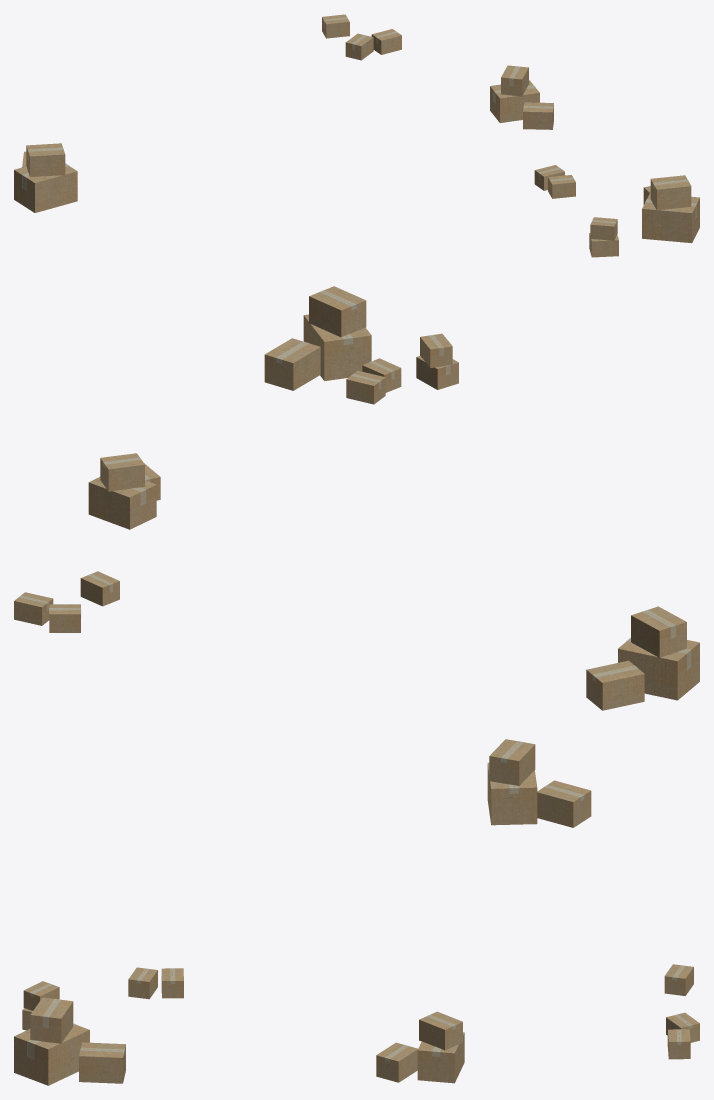
Rendered from Boxes.glb.
3 renders of one model, top to bottom at view 1: azimuth 30°, elevation 25°; view 2: azimuth 150°, elevation 25°; view 3: azimuth 270°, elevation 25°, orthographic. The views are drawn at different scales.
Visible parts, largest first — view 1: Box1.001, Box1.007, Box1.006, Box1.002, Box1.014, Box1.013, Box1.015, Box1.004, Box1.003, Box1.005, Box1.012, Box1.009 (+2 smaller); view 2: Box1.001, Box1.007, Box1.014, Box1, Box1.008, Box1.006, Box1.002, Box1.015, Box1.010, Box1.005, Box1.004, Box1.011 (+3 smaller); view 3: Box1.007, Box1.001, Box1, Box1.008, Box1.002, Box1.006, Box1.014, Box1.015, Box1.013, Box1.005, Box1.009, Box1.004 (+3 smaller).
Boxes of the visible parts, bbox=[...] form: Box1.001: bbox=[14, 163, 77, 212]; Box1.007: bbox=[642, 193, 699, 243]; Box1.006: bbox=[650, 175, 691, 210]; Box1.002: bbox=[26, 143, 65, 176]; Box1.014: bbox=[490, 80, 539, 122]; Box1.013: bbox=[523, 102, 553, 129]; Box1.015: bbox=[501, 65, 528, 96]; Box1.004: bbox=[371, 29, 401, 54]; Box1.003: bbox=[345, 33, 373, 60]; Box1.005: bbox=[322, 14, 349, 38]; Box1.012: bbox=[590, 217, 617, 240]; Box1.009: bbox=[548, 175, 575, 198]; Box1.001: bbox=[618, 637, 699, 700]; Box1.007: bbox=[303, 314, 371, 381]; Box1.014: bbox=[88, 476, 156, 529]; Box1: bbox=[586, 660, 644, 710]; Box1.008: bbox=[264, 338, 320, 390]; Box1.006: bbox=[309, 286, 366, 337]; Box1.002: bbox=[631, 606, 686, 657]; Box1.015: bbox=[100, 453, 144, 491]; Box1.010: bbox=[346, 370, 385, 404]; Box1.005: bbox=[80, 571, 119, 606]; Box1.004: bbox=[14, 592, 53, 625]; Box1.011: bbox=[416, 356, 458, 389]; Box1.007: bbox=[14, 1023, 89, 1085]; Box1.001: bbox=[487, 762, 537, 825]; Box1: bbox=[537, 780, 591, 827]; Box1.008: bbox=[79, 1042, 125, 1083]; Box1.002: bbox=[489, 739, 535, 785]; Box1.006: bbox=[30, 997, 73, 1043]; Box1.014: bbox=[417, 1032, 464, 1083]; Box1.015: bbox=[419, 1011, 462, 1050]; Box1.013: bbox=[376, 1042, 417, 1082]; Box1.005: bbox=[664, 964, 693, 995]; Box1.009: bbox=[128, 967, 157, 999]; Box1.004: bbox=[667, 1029, 690, 1059].
Bounding box in the file's own units: 60.88 × 6.08 × 61.3.
Materials: 48 (16 with a texture image).
